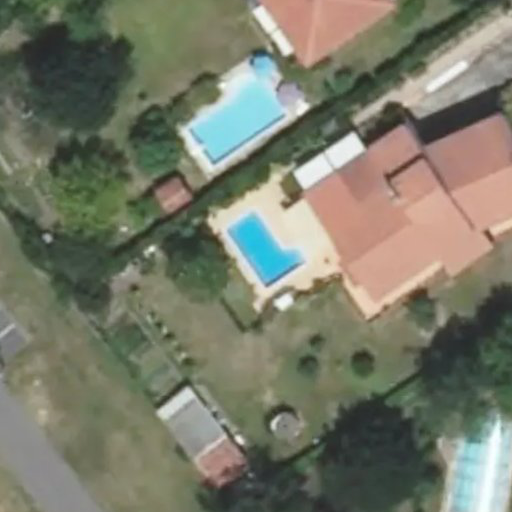pool: (218, 222, 294, 261)
